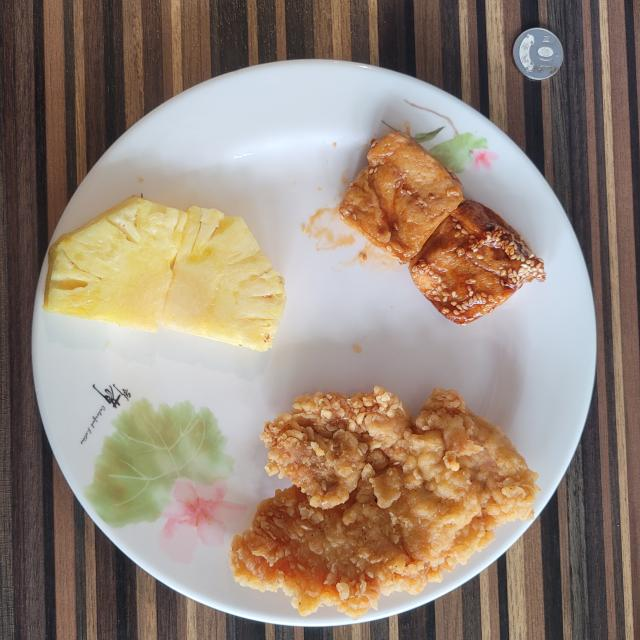coin: (512, 28, 564, 80)
creamy tofu: (339, 132, 545, 324)
fried chicken cutlet: (230, 388, 538, 619)
pineapple: (44, 196, 286, 351)
